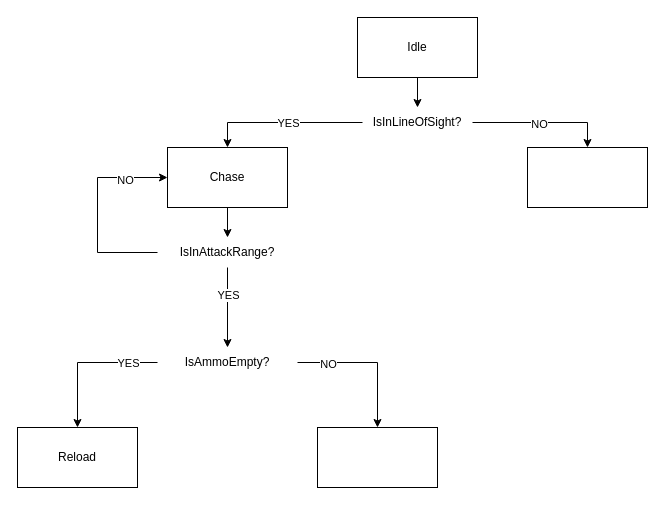
This 665x505 diagram has some shape labels left out. The shapes that lost their labels are listed below. From the top down, each one's centre as x and y in pixels, then its label:
(x=587, y=177): Patrol
(x=377, y=457): Attack
